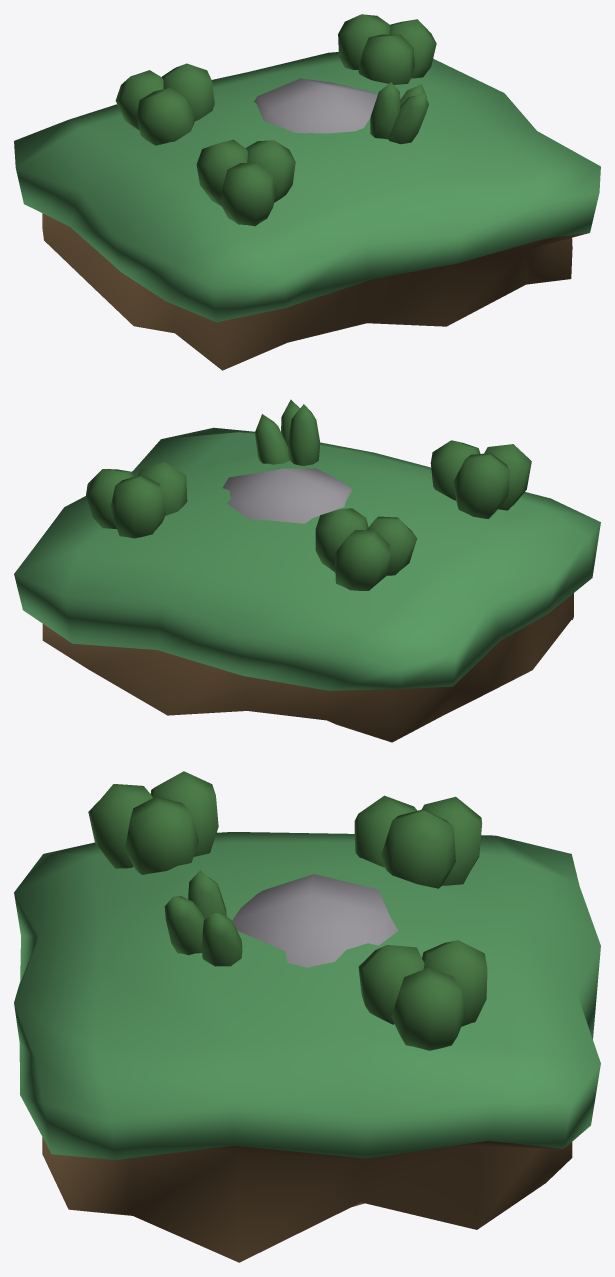
The model's file is island04-4.fbx.
3 views of the same model, one above another, from view 1: azimuth 30°, elevation 25°; view 2: azimuth 150°, elevation 25°; view 3: azimuth 270°, elevation 25° (orthographic). The views are drawn at different scales.
Visible parts, largest first — view 1: island04-4; view 2: island04-4; view 3: island04-4.
Part boxes in pixels (<box>): island04-4: <box>14,14,600,370</box>; island04-4: <box>14,399,600,742</box>; island04-4: <box>14,771,600,1262</box>.
Size of the model in its own units: 6019 by 3227 by 5240.
